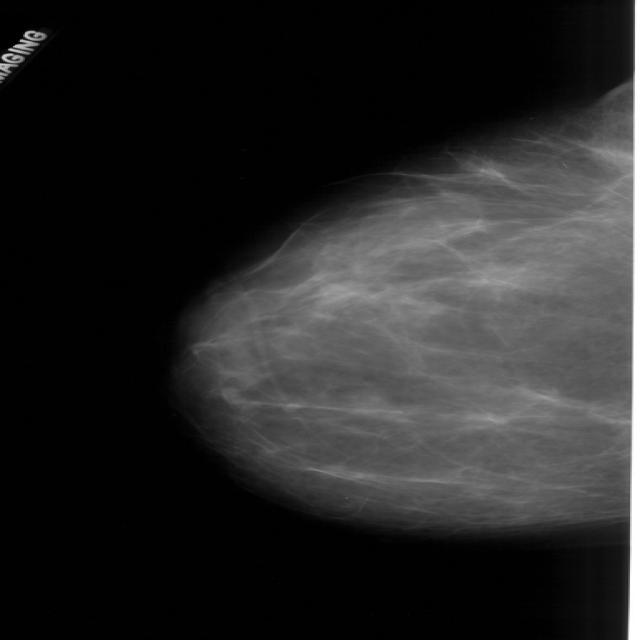tumour: (217, 385, 244, 405)
